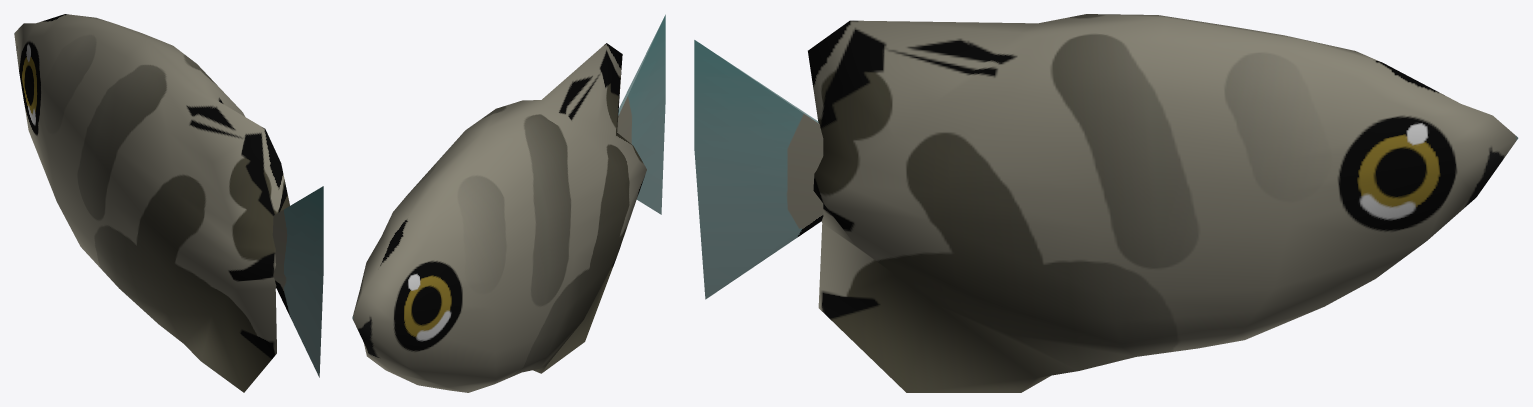
File: fish.glb
3 views of the same model, side by side, from view 1: azimuth 30°, elevation 25°; view 2: azimuth 150°, elevation 25°; view 3: azimuth 270°, elevation 25° (orthographic). The views are drawn at different scales.
Visible parts, largest first — view 1: Fish; view 2: Fish; view 3: Fish.
Part boxes in pixels (x1,y1,x2,y2): Fish: (14, 14, 323, 392); Fish: (352, 14, 665, 392); Fish: (694, 14, 1518, 392).
Size of the model in its own units: 0.505 by 1.1 by 2.19.
1 material, 1 textured.
